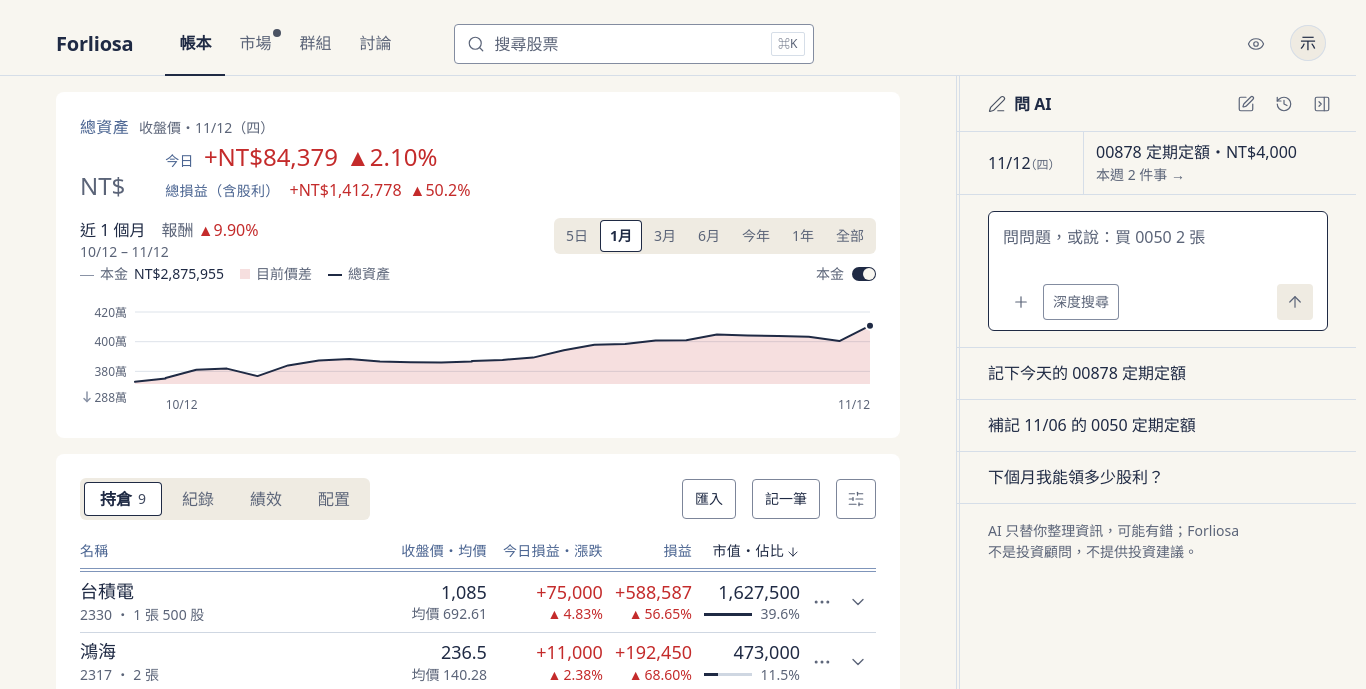
Test: 展開一檔：均價・持有・成本一行 › 桌面：展開台積電，最上面是「均價 692.61 含手續費・持有 1 張 500 股・成本 NT$1,038,913」，在每一筆買賣前面
Later steps or results of the test are not shown.
Expected: the link "台積電" is shown, [80,579,134,603]
Click the button named "展開台積電的每一筆買賣".
click(858, 602)  # box [840,584,876,620]
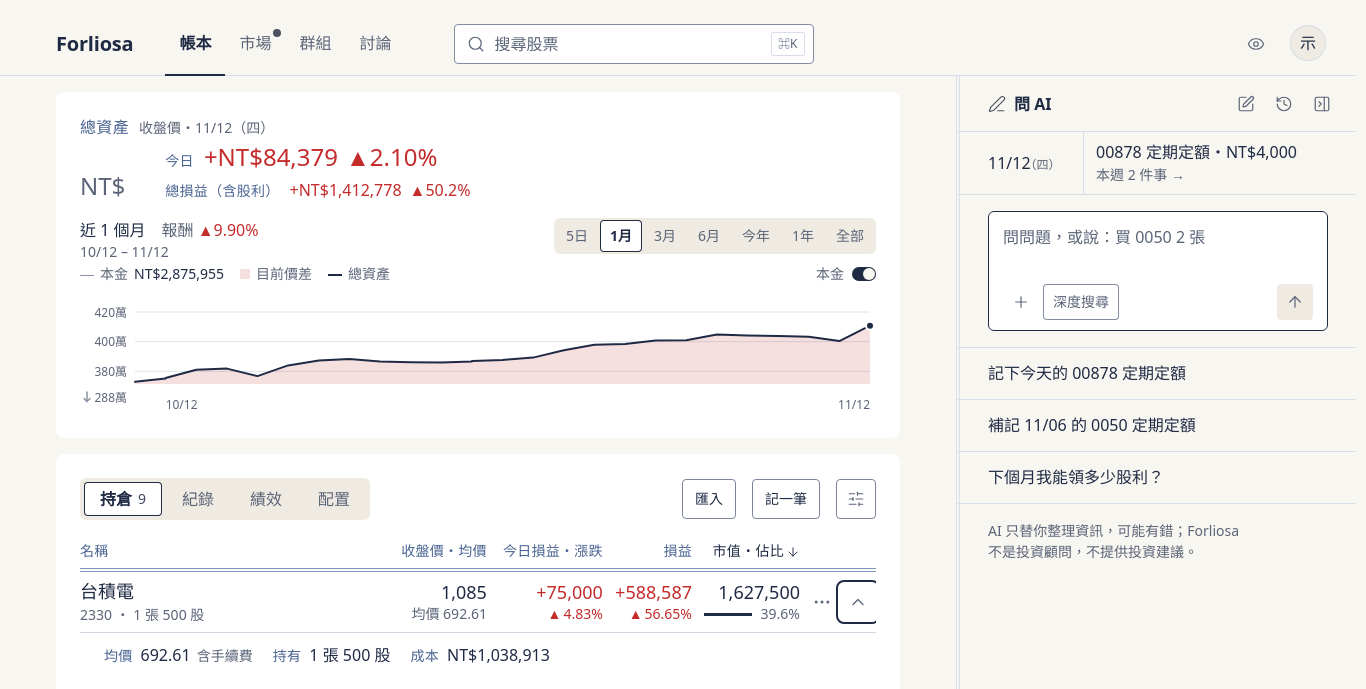
Result: the element showing "692.61 含手續費" is shown at [141,643,253,667]
Result: the text "1 張 500 股" next to "持有" is shown at [309,644,390,666]
Result: the text "NT$1,038,913" is shown at [447,643,550,667]
